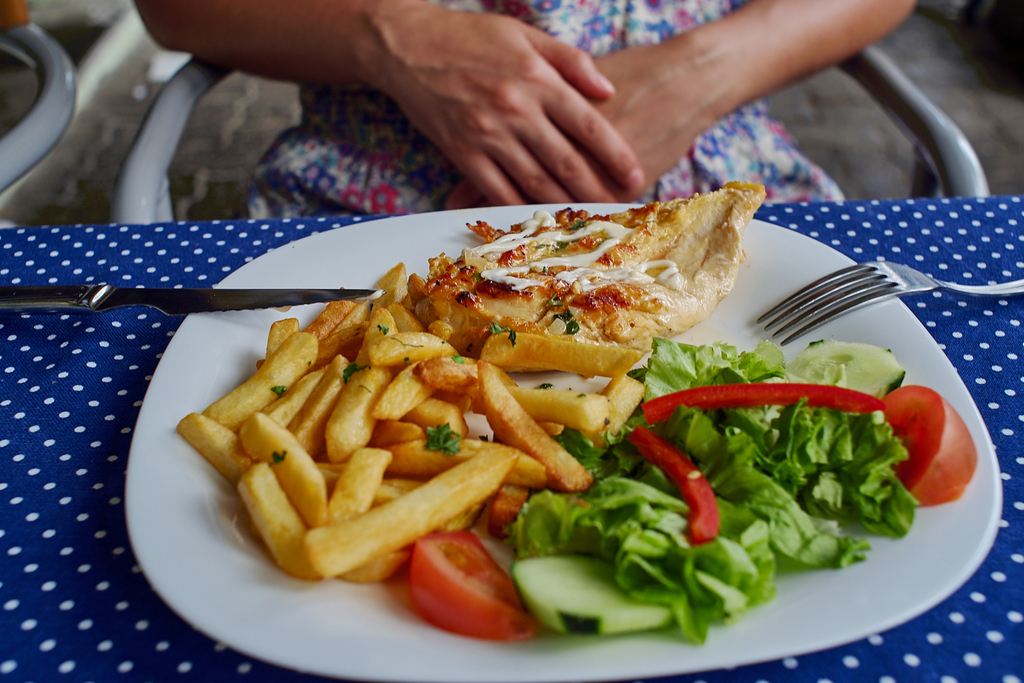French fries: (172, 253, 656, 590)
